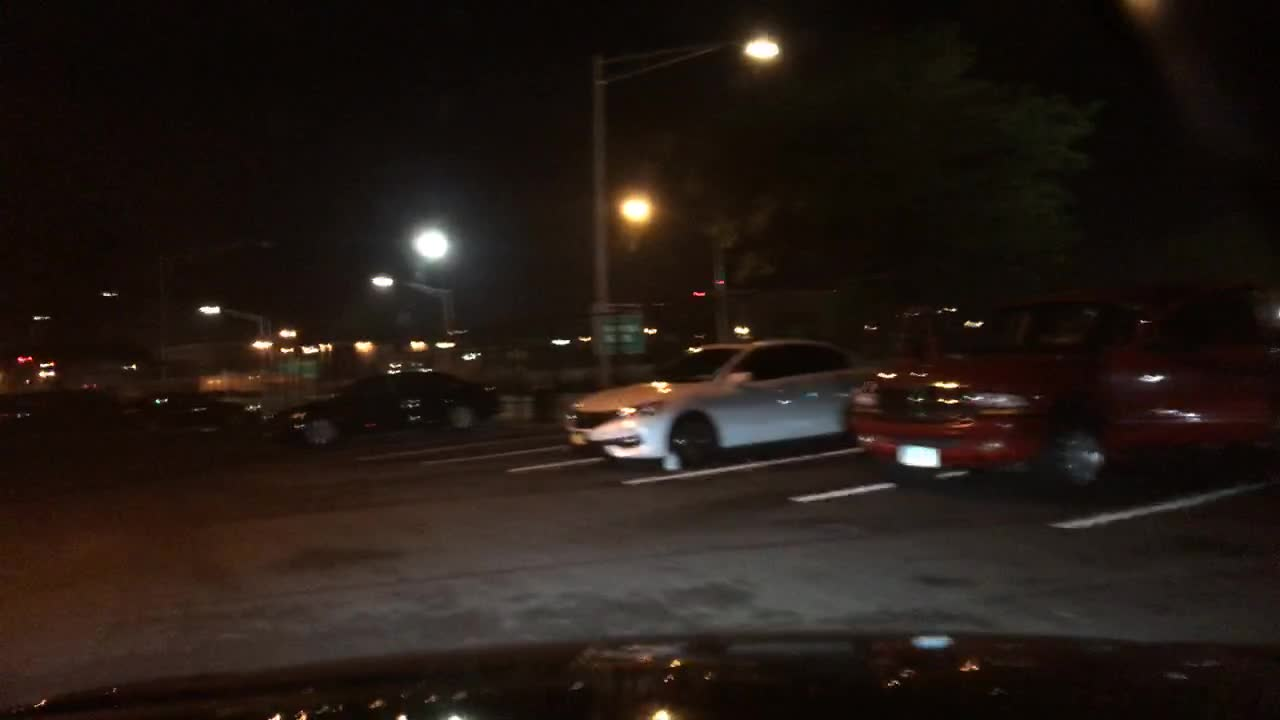car: (842, 268, 1277, 504), (562, 334, 878, 471), (275, 369, 506, 447), (128, 398, 281, 447), (0, 388, 119, 446)
traffic sign: (598, 316, 651, 354), (595, 300, 642, 313)
